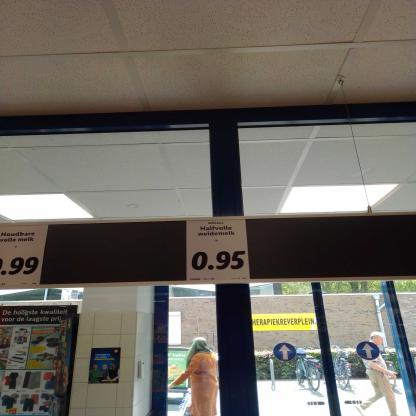prtg: (188, 220, 251, 282), (1, 227, 50, 287)
